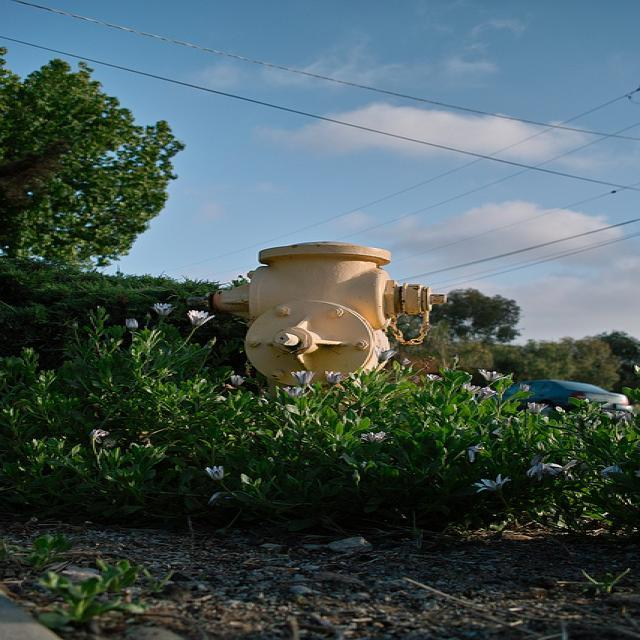fire_hydrant: (192, 240, 447, 391)
